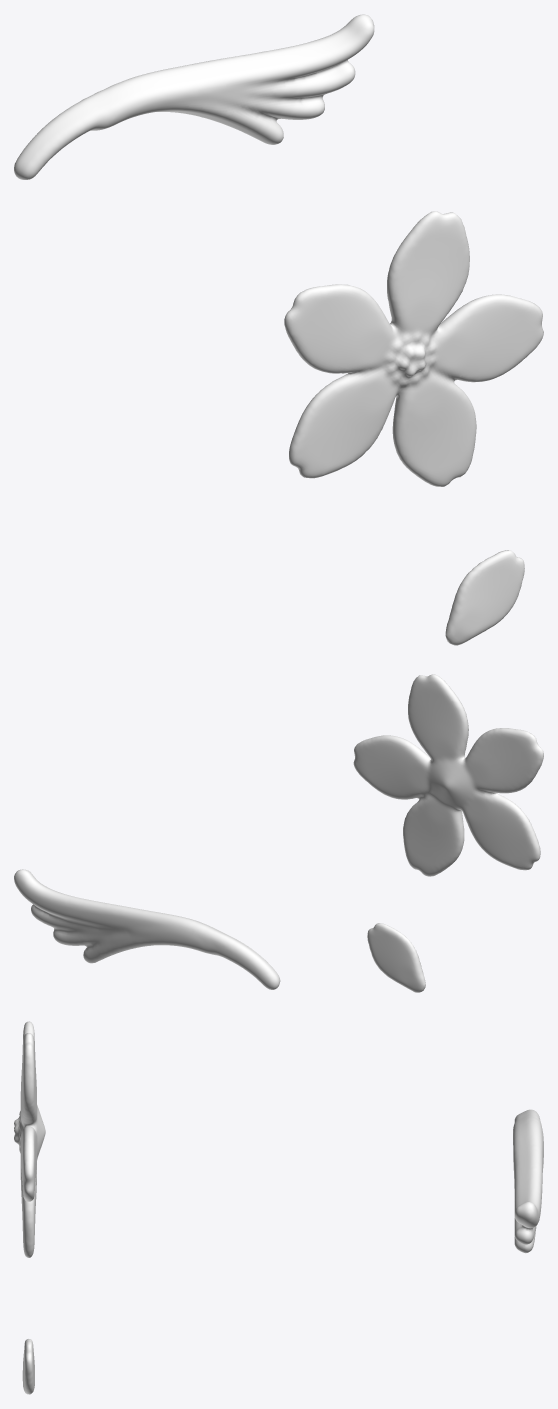
File: announcement surface.glb
The picture shows the model from 3 angles, top to bottom: view 1: azimuth 30°, elevation 25°; view 2: azimuth 150°, elevation 25°; view 3: azimuth 270°, elevation 25°; orthographic projection. The views are drawn at different scales.
Parts seen in each view (by area): view 1: Announcement; view 2: Announcement; view 3: Announcement.
Part boxes in pixels (left/top/right/bottom): Announcement: left=14, top=14, right=543, bottom=645; Announcement: left=14, top=674, right=543, bottom=992; Announcement: left=14, top=1021, right=543, bottom=1394.
Bounding box in the file's own units: 147 × 152 × 211.
1 material, 1 textured.
